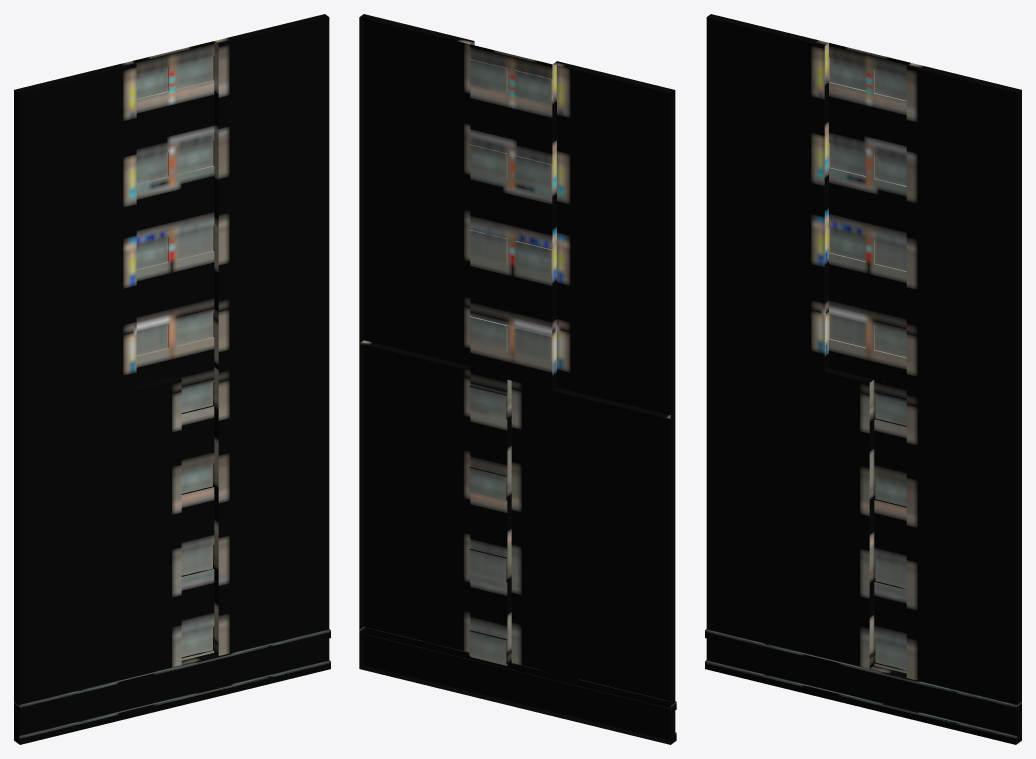
File: Pagoda_Body_Tile_2500x5000_D.FBX
3 renders of one model, left to right at view 1: azimuth 30°, elevation 25°; view 2: azimuth 150°, elevation 25°; view 3: azimuth 330°, elevation 25°, orthographic.
Visible parts, largest first — view 1: Geometry_Pagoda_Body_Tile_2500x5000_D_LOD00; view 2: Geometry_Pagoda_Body_Tile_2500x5000_D_LOD00; view 3: Geometry_Pagoda_Body_Tile_2500x5000_D_LOD00.
Boxes of the visible parts, x1,y1,x2,y2 form: Geometry_Pagoda_Body_Tile_2500x5000_D_LOD00: (14,14,330,744); Geometry_Pagoda_Body_Tile_2500x5000_D_LOD00: (359,14,676,744); Geometry_Pagoda_Body_Tile_2500x5000_D_LOD00: (705,14,1021,744).
Size of what is drawn, in the model's own units: 2500 by 5000 by 97.57.
